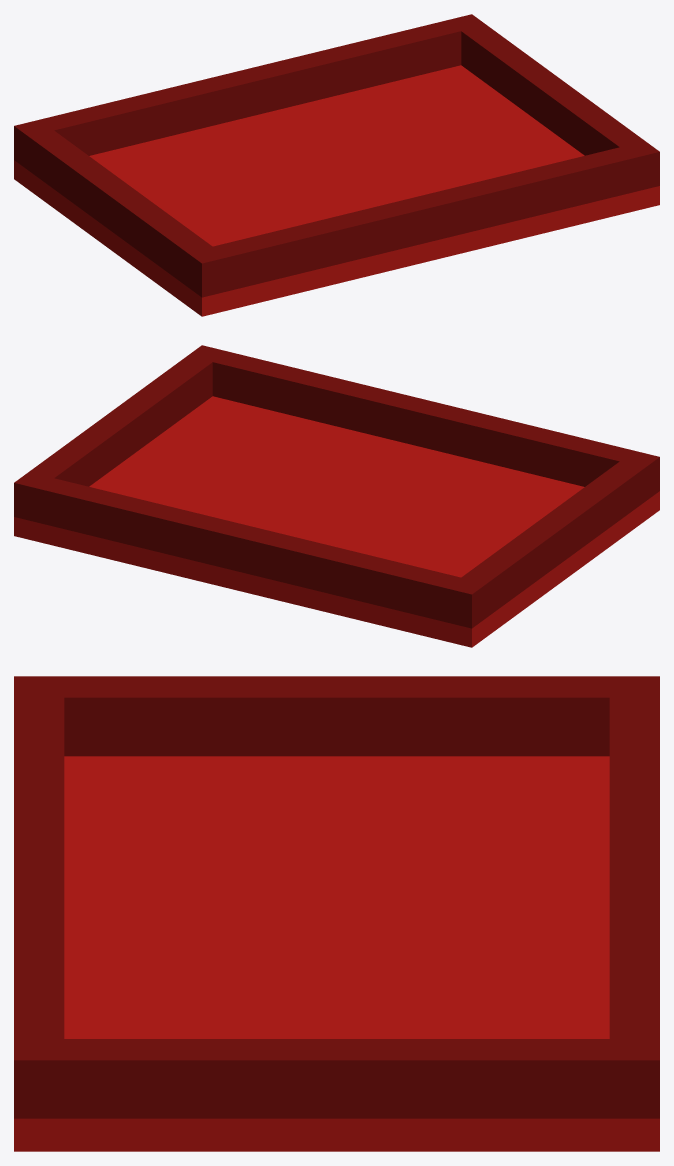
The model's file is FastFoodTray.obj.
The picture shows the model from 3 angles, top to bottom: view 1: azimuth 30°, elevation 25°; view 2: azimuth 150°, elevation 25°; view 3: azimuth 270°, elevation 25°; orthographic projection. The views are drawn at different scales.
Parts seen in each view (by area): view 1: TrayBase, TrayRimBack, TrayRimFront, TrayRimLeft, TrayRimRight; view 2: TrayBase, TrayRimFront, TrayRimBack, TrayRimLeft, TrayRimRight; view 3: TrayBase, TrayRimRight, TrayRimLeft, TrayRimFront, TrayRimBack.
Boxes of the visible parts, x1=… form: TrayBase: x1=14, y1=65, x2=659, y2=316; TrayRimBack: x1=213, y1=147, x2=634, y2=291; TrayRimFront: x1=40, y1=20, x2=461, y2=155; TrayRimLeft: x1=14, y1=119, x2=227, y2=297; TrayRimRight: x1=447, y1=14, x2=659, y2=191; TrayBase: x1=14, y1=396, x2=659, y2=647; TrayRimFront: x1=39, y1=478, x2=460, y2=622; TrayRimBack: x1=212, y1=351, x2=633, y2=486; TrayRimLeft: x1=446, y1=450, x2=659, y2=628; TrayRimRight: x1=14, y1=345, x2=226, y2=522; TrayBase: x1=14, y1=756, x2=659, y2=1151; TrayRimRight: x1=14, y1=1039, x2=659, y2=1118; TrayRimLeft: x1=14, y1=676, x2=659, y2=756; TrayRimFront: x1=609, y1=697, x2=659, y2=1038; TrayRimBack: x1=14, y1=697, x2=64, y2=1038.
Size of the model in its own units: 0.45 by 0.05 by 0.32.
